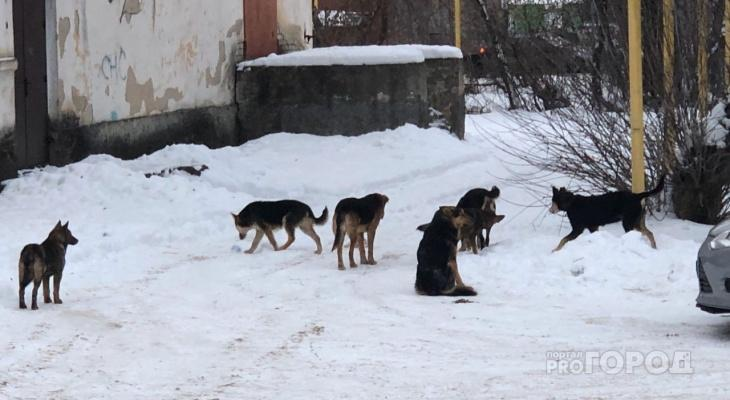dog_aggressive: (416, 205, 479, 300)
normal_dogs: (547, 181, 664, 254), (14, 218, 81, 313), (230, 198, 328, 256), (331, 192, 391, 271), (460, 180, 507, 253)
